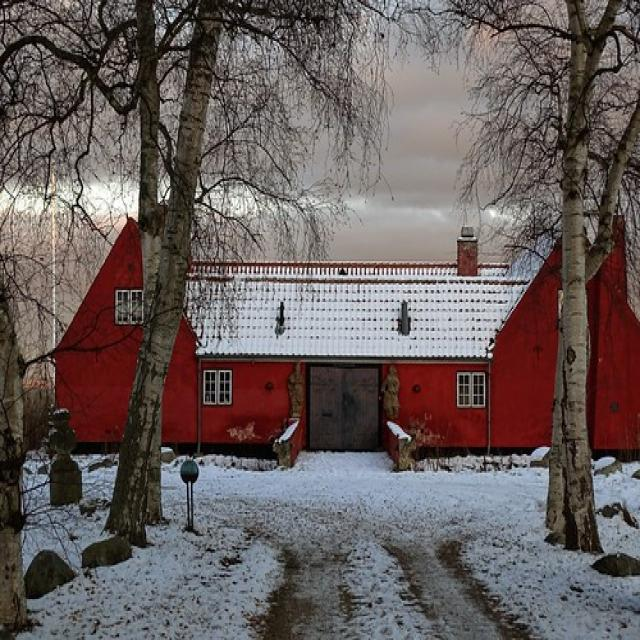Normal_building: (45, 208, 640, 478)
